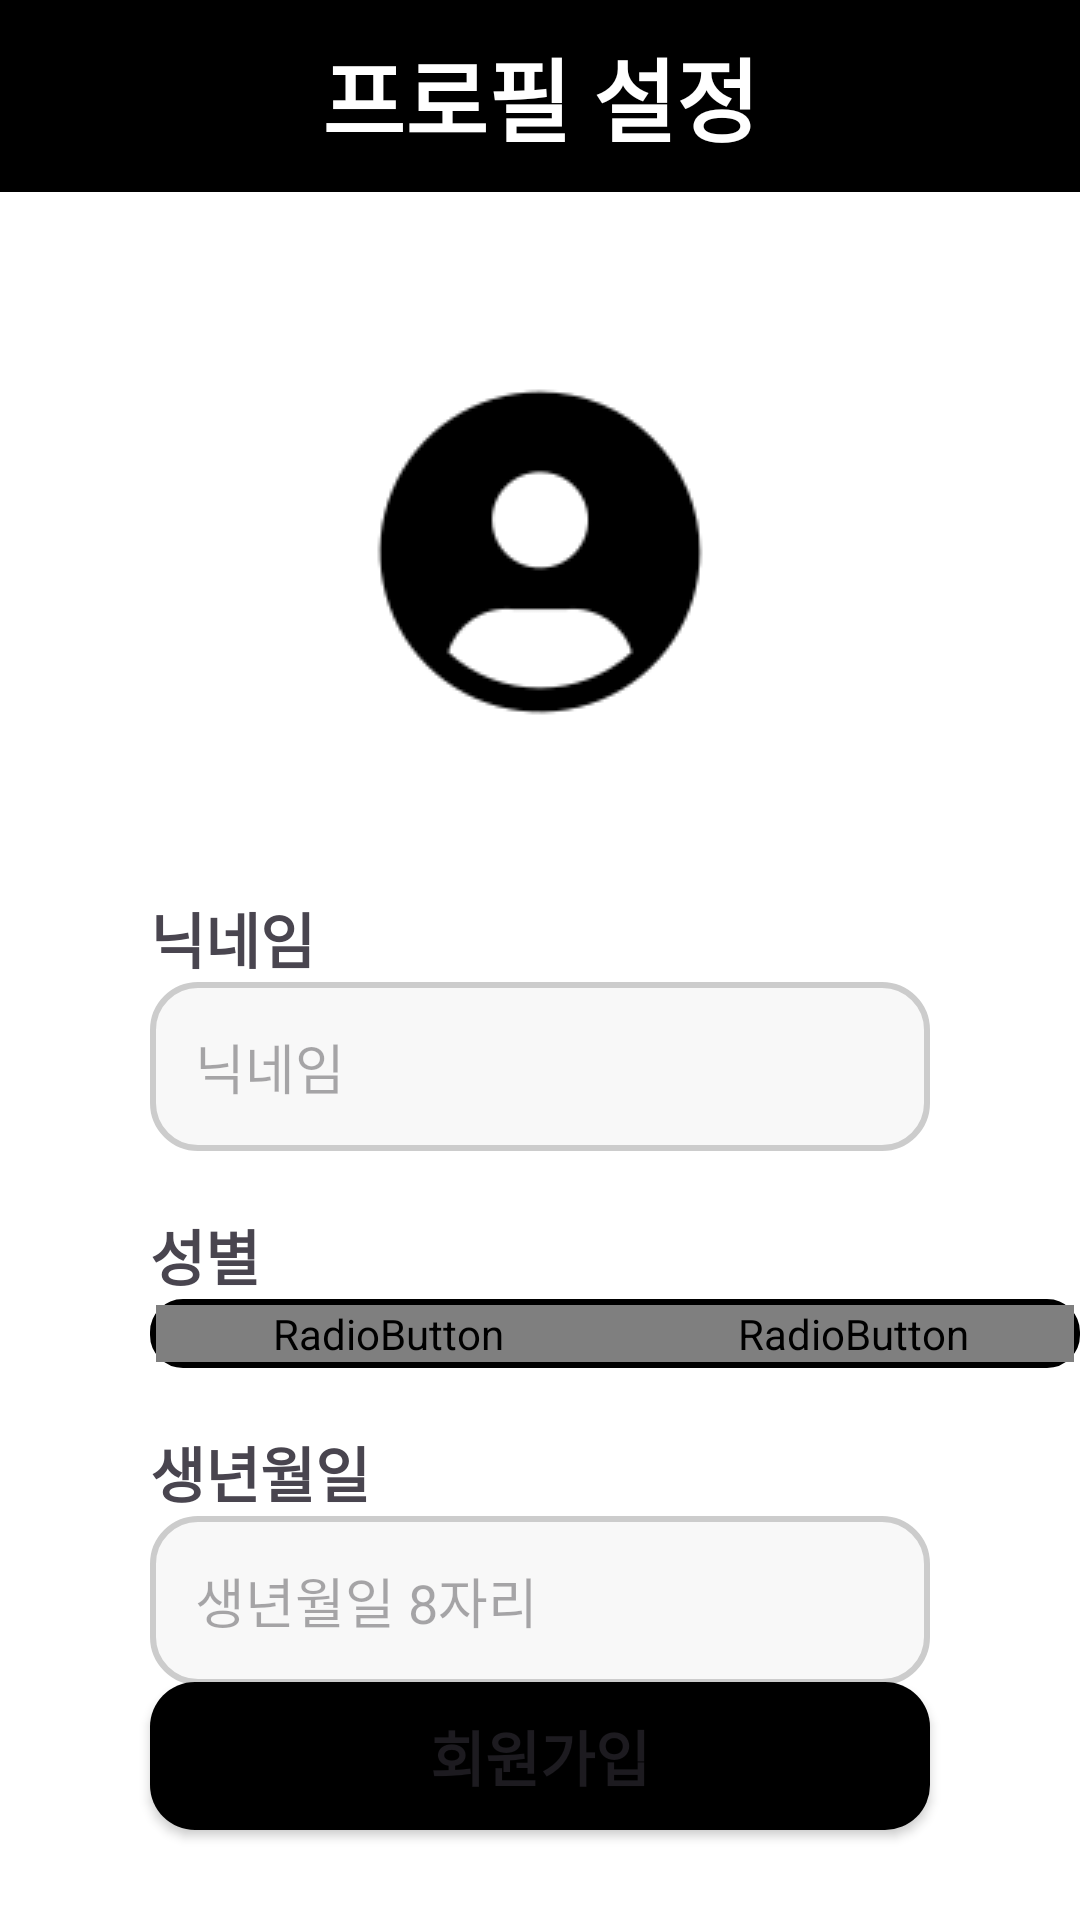

Icon bounding boxes for this 1080px x 1920px phone screenshot, format (x1, y1, x2, y2):
user: (377, 389, 703, 715)
